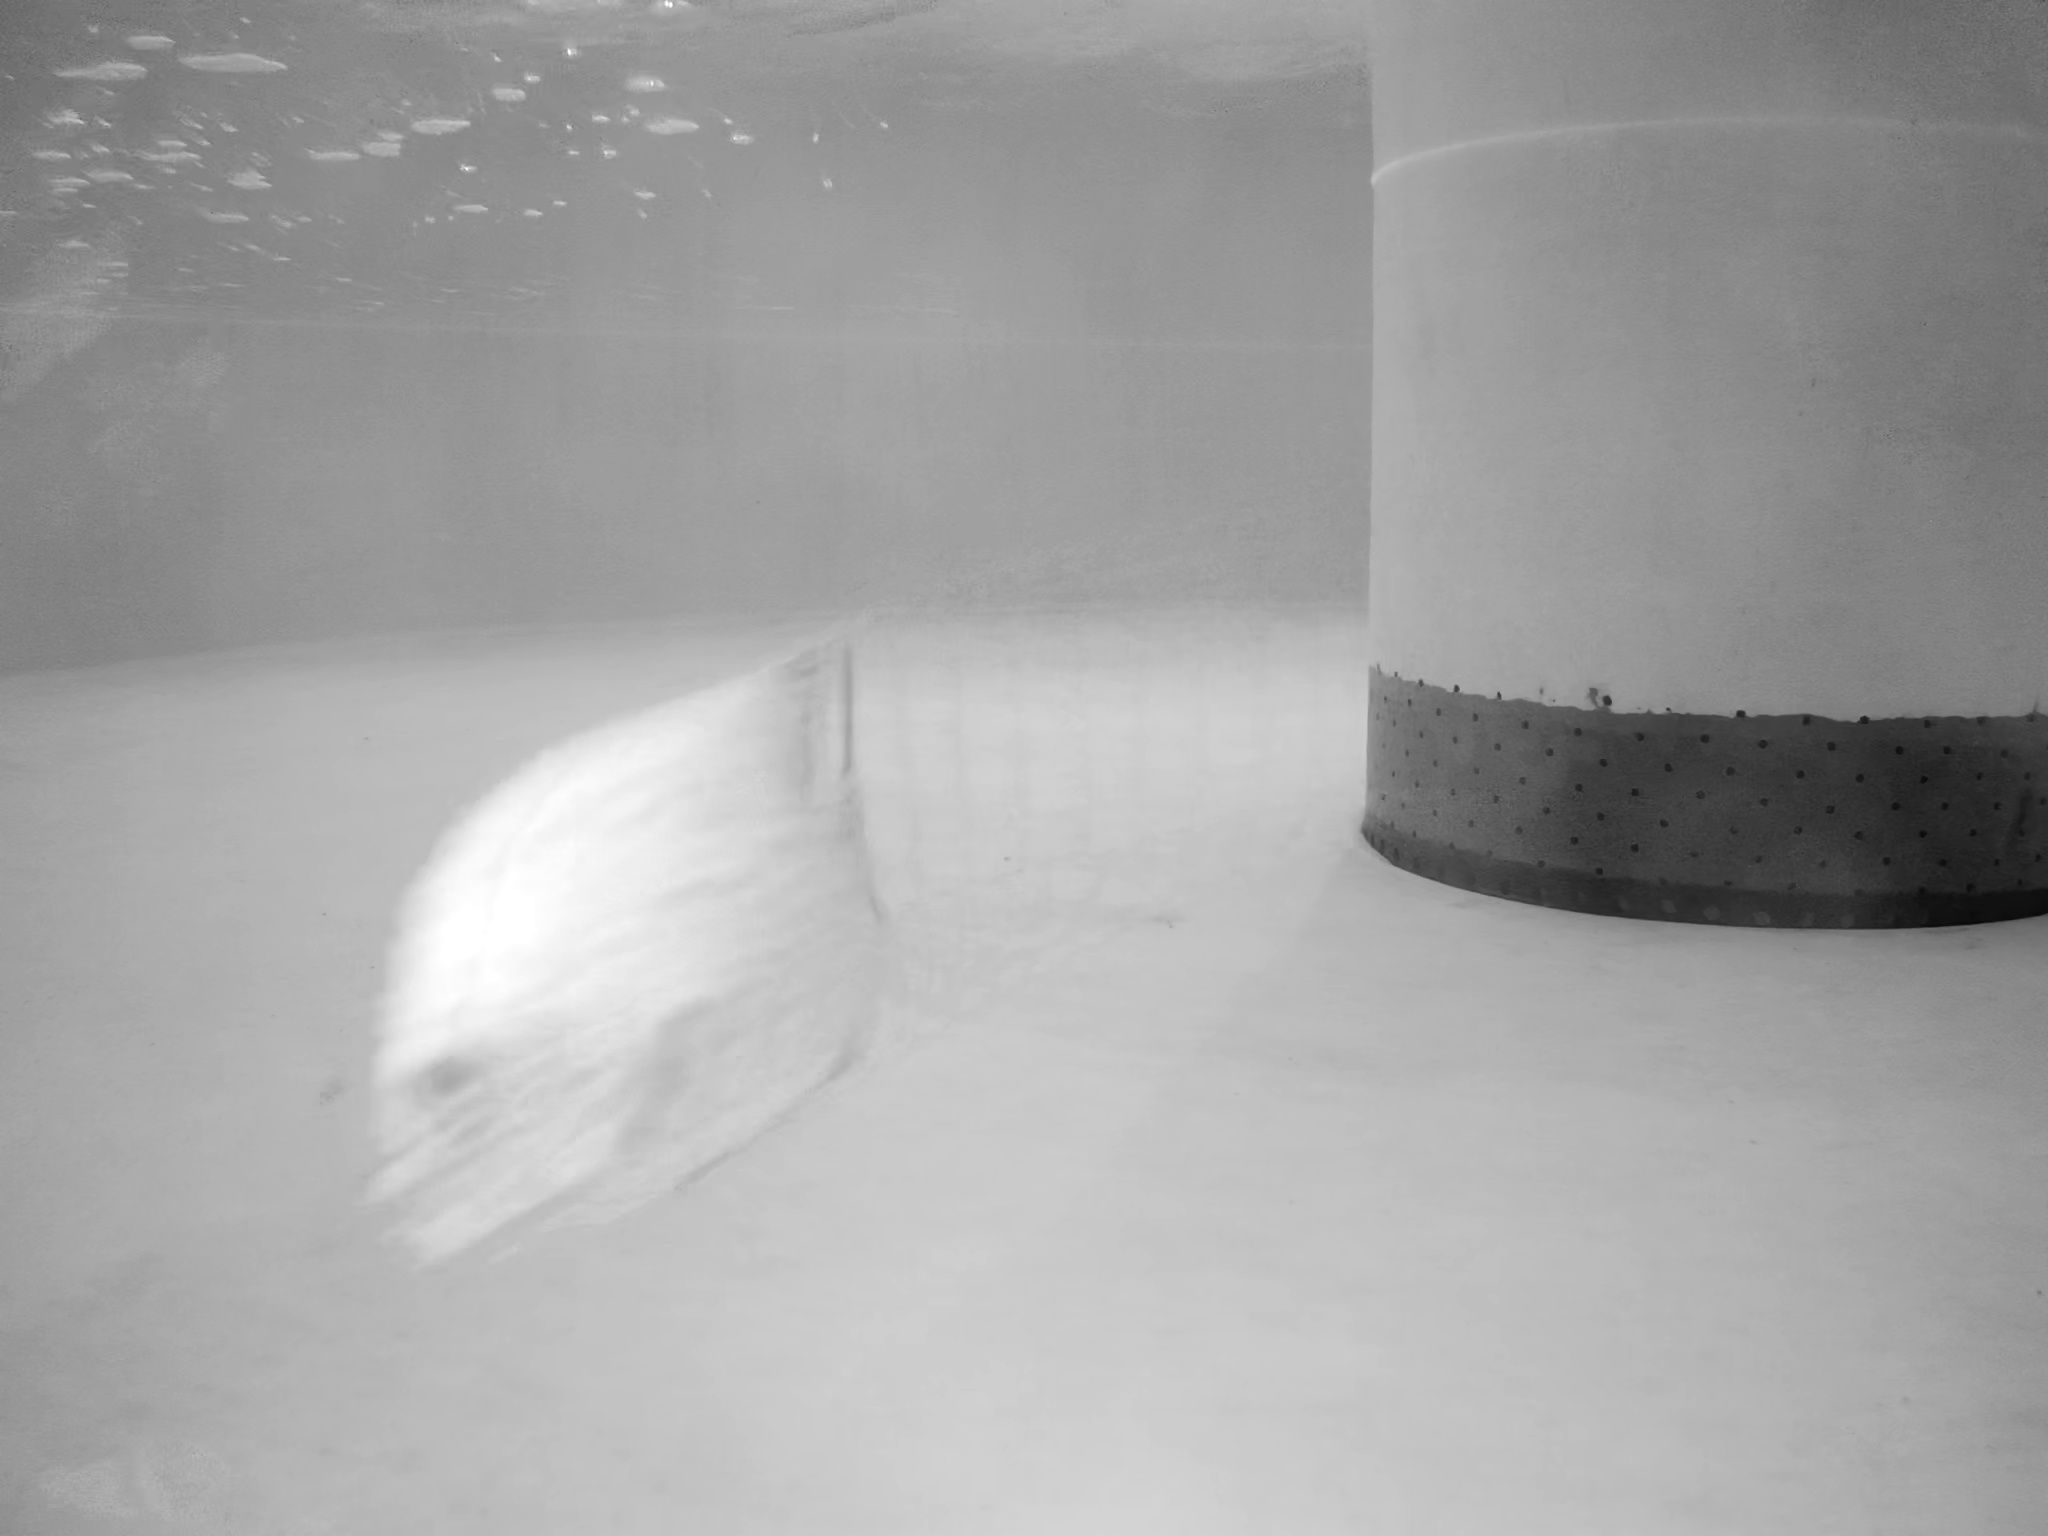fish: (350, 624, 889, 1273)
